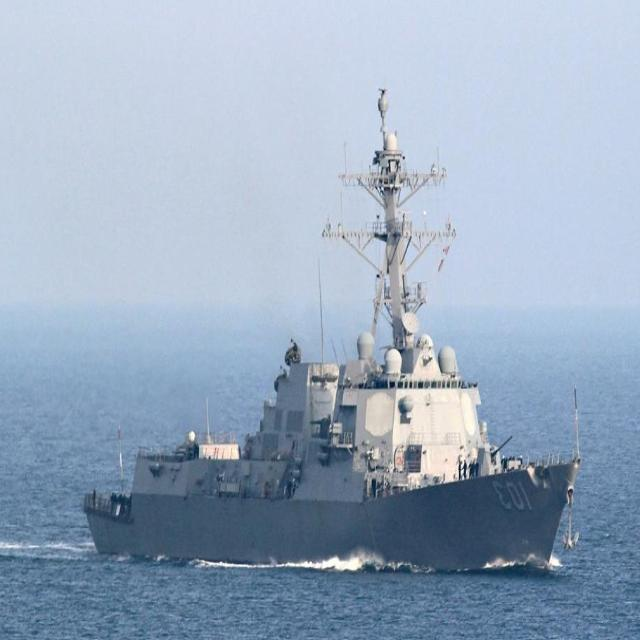navalvessels: (80, 92, 596, 590)
